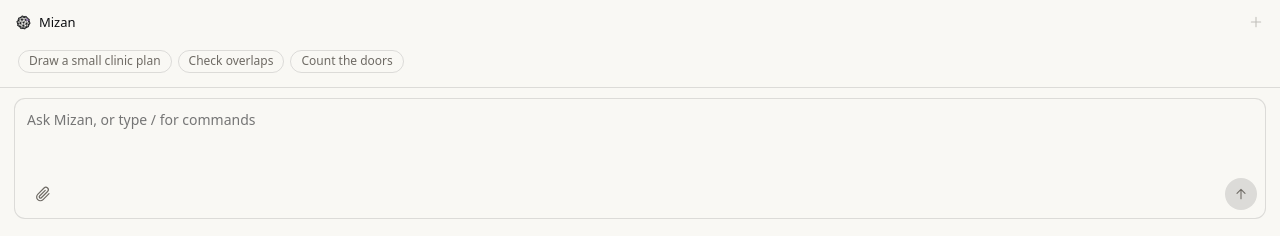
Test case: empty state offers three examples; one fills the box
The image size is (1280, 236).
Click the button "Draw a small clinic plan". click: (95, 61)
box: [18,50,172,73]
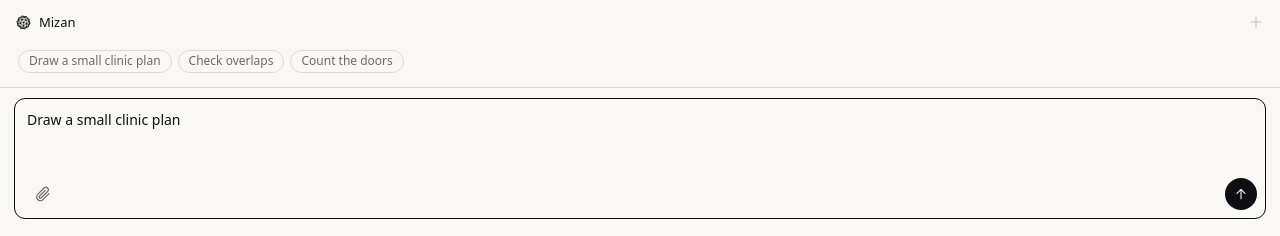
Expected: the button named "New chat" is disabled, [1242,8,1270,36]
Now the text box named "Ask Mizan, or type / for commands" holds "Draw a small clinic plan", box [27,109,1257,172]
